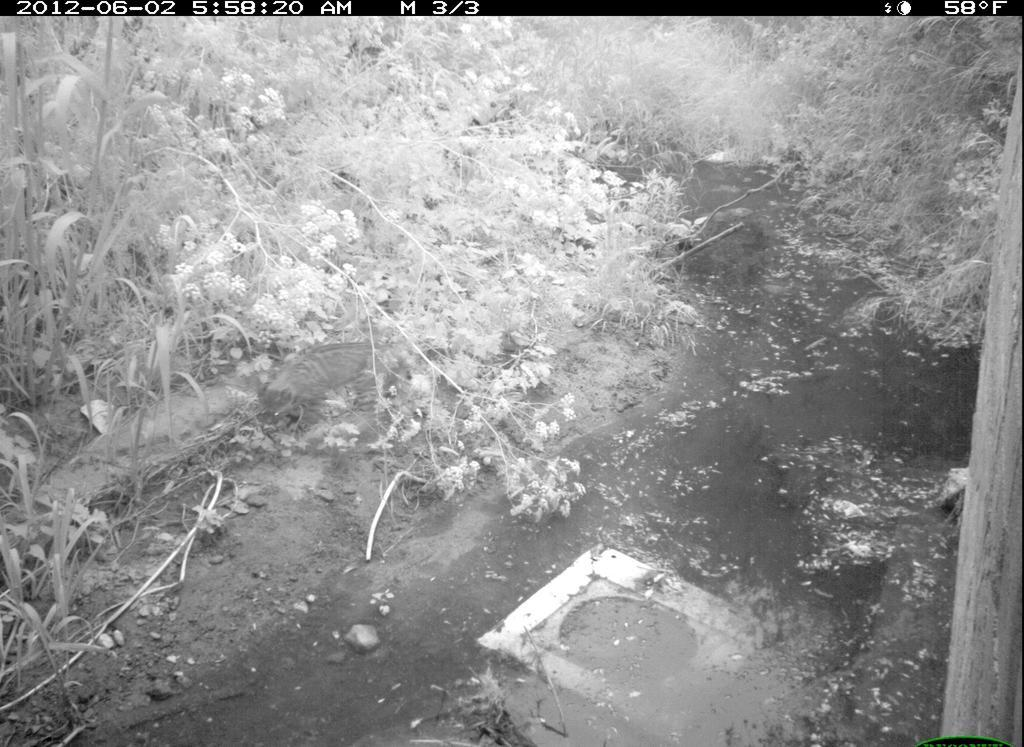bobcat: (253, 341, 410, 456)
